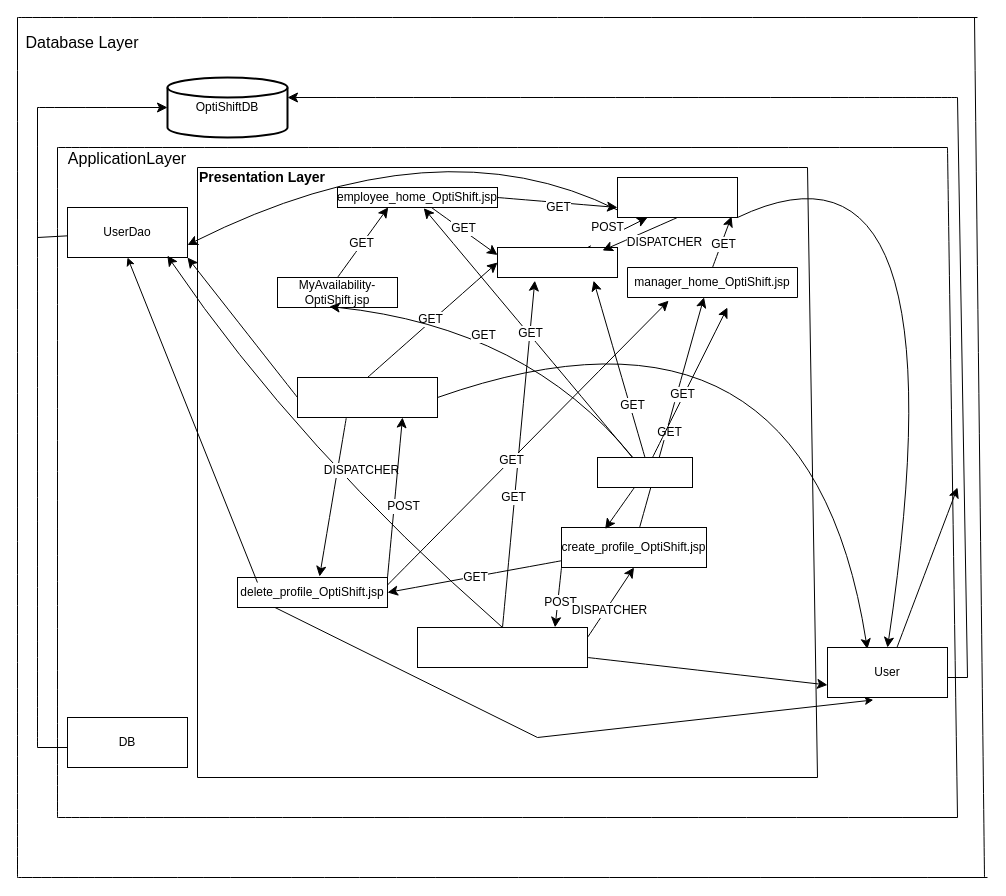
The diagram is 1006 pixels wide and 896 high, and some of its shapes have lost their labels. The shapes that lost their labels are listed below. From the top down, each one's centre as x and y in pixels, then its label:
At (677,197): "LoginServlet.java".
At (557,262): "login_OptiShift.jsp".
At (367,397): "DeleteProfileServlet.java".
At (644,472): "error.jsp".
At (502,647): "Create Empolyee Servlet.java".
